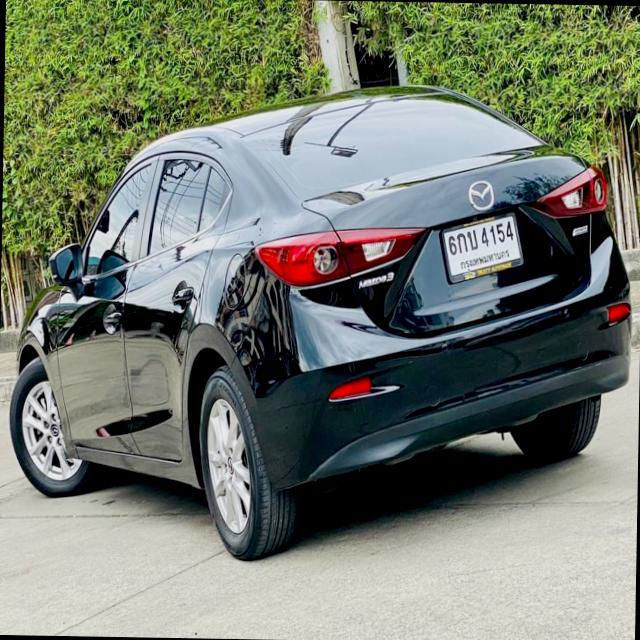license_plate: (436, 205, 526, 288)
